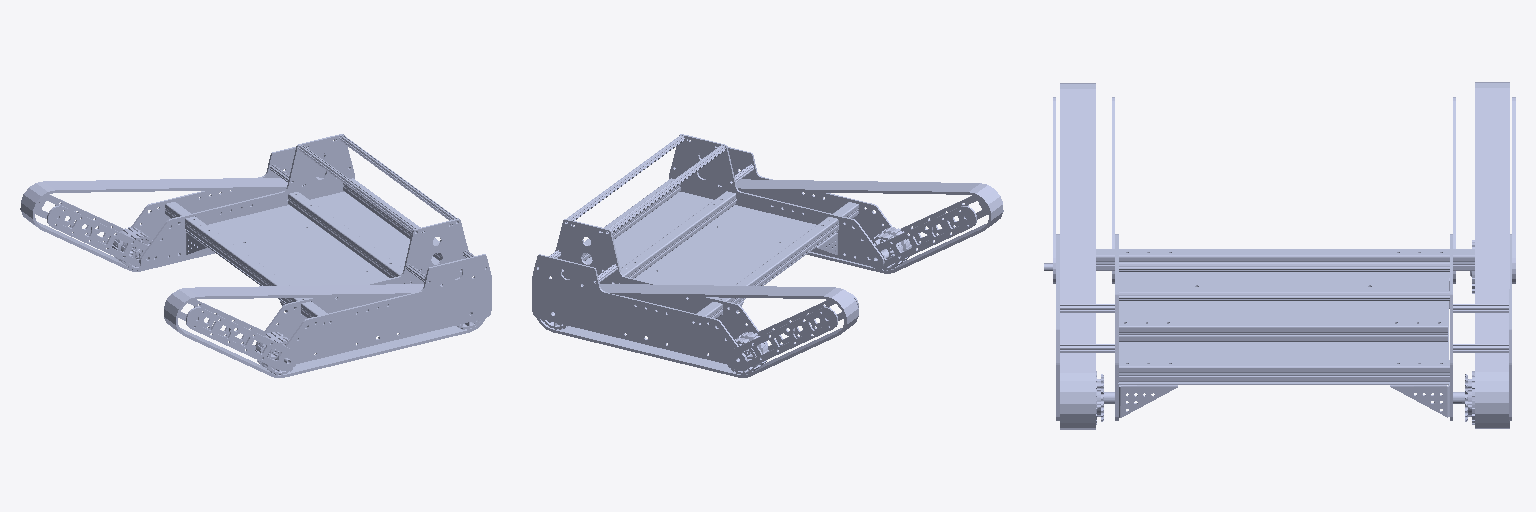
robot.urdf — rhino:
<?xml version="1.0"?>
<!-- This URDF was automatically created by SolidWorks to URDF Exporter! Originally created by [author] ([email redacted]) 
     Commit Version: 1.5.0-0-g9aa0fdb  Build Version: 1.5.7004.21443
     For more information, please see http://wiki.ros.org/sw_urdf_exporter -->

<robot xmlns:sensor="http://playerstage.sourceforge.net/gazebo/xmlschema/#sensor"
  xmlns:controller="http://playerstage.sourceforge.net/gazebo/xmlschema/#controller"
  xmlns:interface="http://playerstage.sourceforge.net/gazebo/xmlschema/#interface"
  xmlns:xacro="http://www.ros.org/wiki/xacro"
  name="rhino">
<!--   <gazebo>
    <plugin filename="libgazebo_ros_diff_drive.so" name="differential_drive_controller">
      <alwaysOn>true</alwaysOn>
      <updateRate>20</updateRate>
      <leftJoint>l_front_gear_joint</leftJoint>
      <rightJoint>r_front_gear_joint</rightJoint>
      <wheelSeparation>0.5207</wheelSeparation>
      <wheelDiameter>0.0381</wheelDiameter>
      <torque>0.1</torque>
      <commandTopic>cmd_vel</commandTopic>
      <odometryTopic>odom</odometryTopic>
      <odometryFrame>odom</odometryFrame>
      <robotBaseFrame>base_link</robotBaseFrame>
    </plugin>
  </gazebo> -->
  <link
    name="base_link">
    <inertial>
      <origin
        xyz="-0.0854539444578278 -0.248510652272491 -0.0312116526849612"
        rpy="0 0 0" />
      <mass
        value="3.56295751873982" />
      <inertia
        ixx="0.257988964378837"
        ixy="-4.92926267539531E-05"
        ixz="0.00927576508424767"
        iyy="0.169815337004094"
        iyz="-0.000325135700747767"
        izz="0.404346652256536" />
    </inertial>
    <visual>
      <origin
        xyz="0 0 0"
        rpy="0 0 0" />
      <geometry>
        <mesh
          filename="package://robot-description-rhino/meshes/base_link.STL" />
      </geometry>
      <material
        name="">
        <color
          rgba="0.792156862745098 0.819607843137255 0.933333333333333 1" />
      </material>
    </visual>
    <collision>
      <origin
        xyz="0 0 0"
        rpy="0 0 0" />
      <geometry>
        <mesh
          filename="package://robot-description-rhino/meshes/base_link.STL" />
      </geometry>
    </collision>
  </link>
  <link
    name="r_front_gear_link">
    <inertial>
      <origin
        xyz="-1.7946086172671E-08 0.000932848402039943 -1.21516630091634E-10"
        rpy="0 0 0" />
      <mass
        value="0.159751645930498" />
      <inertia
        ixx="0.000101683067389321"
        ixy="-2.67439877595214E-12"
        ixz="-4.32552434761431E-14"
        iyy="0.000126695577433162"
        iyz="7.52063087514194E-11"
        izz="0.000101675353103401" />
    </inertial>
    <visual>
      <origin
        xyz="0 0 0"
        rpy="0 0 0" />
      <geometry>
        <mesh
          filename="package://robot-description-rhino/meshes/r_front_gear_link.STL" />
      </geometry>
      <material
        name="">
        <color
          rgba="0.792156862745098 0.819607843137255 0.933333333333333 1" />
      </material>
    </visual>
    <collision>
      <origin
        xyz="0 0 0"
        rpy="0 0 0" />
      <geometry>
        <cylinder radius="0.1" length="0.075"/>
      </geometry>
    </collision>
  </link>
  <joint
    name="r_front_gear_joint"
    type="continuous">
    <origin
      xyz="-0.302841769105532 0.0553113212582894 -0.085091106884355"
      rpy="-3.14159265358979 0.248289056196051 0" />
    <parent
      link="base_link" />
    <child
      link="r_front_gear_link" />
    <axis
      xyz="0 0 1" />
    <safety_controller
      k_velocity="0" />
  </joint>
  <link
    name="l_front_gear_link">
    <inertial>
      <origin
        xyz="-1.79460862281822E-08 0.00093284840204011 -1.21516602336058E-10"
        rpy="0 0 0" />
      <mass
        value="0.159751645930498" />
      <inertia
        ixx="0.000101683067389321"
        ixy="-2.67439883249513E-12"
        ixz="-4.32553806954293E-14"
        iyy="0.000126695577433162"
        iyz="7.52063087551771E-11"
        izz="0.000101675353103401" />
    </inertial>
    <visual>
      <origin
        xyz="0 0 0"
        rpy="0 0 0" />
      <geometry>
        <mesh
          filename="package://robot-description-rhino/meshes/l_front_gear_link.STL" />
      </geometry>
      <material
        name="">
        <color
          rgba="0.792156862745098 0.819607843137255 0.933333333333333 1" />
      </material>
    </visual>
    <collision>
      <origin
        xyz="0 0 0"
        rpy="0 0 0" />
      <geometry>
        <cylinder radius="0.1" length="0.075"/>
      </geometry>
    </collision>
  </link>
  <joint
    name="l_front_gear_joint"
    type="continuous">
    <origin
      xyz="-0.302841769105532 -0.552764678741711 -0.0850911068843571"
      rpy="-3.14159265358979 0.248289056196051 0" />
    <parent
      link="base_link" />
    <child
      link="l_front_gear_link" />
    <axis
      xyz="0 0 1" />
    <safety_controller
      k_velocity="0" />
  </joint>
  <link
    name="l_rear_gear_link">
    <inertial>
      <origin
        xyz="7.57477243706894E-08 -1.08693112843561E-08 0.0292794468265919"
        rpy="0 0 0" />
      <mass
        value="0.172189485209679" />
      <inertia
        ixx="0.000122932192302857"
        ixy="-3.43751007724576E-09"
        ixz="3.82354732243698E-10"
        iyy="0.000122927948516554"
        iyz="-1.56297480680647E-10"
        izz="0.000135229835419743" />
    </inertial>
    <visual>
      <origin
        xyz="0 0 0"
        rpy="0 0 0" />
      <geometry>
        <mesh
          filename="package://robot-description-rhino/meshes/l_rear_gear_link.STL" />
      </geometry>
      <material
        name="">
        <color
          rgba="0.792156862745098 0.819607843137255 0.933333333333333 1" />
      </material>
    </visual>
    <collision>
      <origin
        xyz="0 0 0"
        rpy="0 0 0" />
      <geometry>
        <cylinder radius="0.1" length="0.075"/>
      </geometry>
    </collision>
  </link>
  <joint
    name="l_rear_gear_joint"
    type="continuous">
    <origin
      xyz="0.154358230894468 -0.51955417874171 -0.0850911068843558"
      rpy="1.5707 0 0" />
    <parent
      link="base_link" />
    <child
      link="l_rear_gear_link" />
    <axis
      xyz="0 0 1" />
    <safety_controller
      k_velocity="0" />
  </joint>
  <link
    name="r_rear_gear_link">
    <inertial>
      <origin
        xyz="-4.28818209829984E-08 -7.9362040883435E-08 -0.0333434215720098"
        rpy="0 0 0" />
      <mass
        value="0.172189485469411" />
      <inertia
        ixx="0.000122932112918135"
        ixy="-3.23459466121525E-09"
        ixz="8.39145638229489E-11"
        iyy="0.000122928572079766"
        iyz="3.39198135872643E-10"
        izz="0.00013522983543829" />
    </inertial>
    <visual>
      <origin
        xyz="0 0 0"
        rpy="0 0 0" />
      <geometry>
        <mesh
          filename="package://robot-description-rhino/meshes/r_rear_gear_link.STL" />
      </geometry>
      <material
        name="">
        <color
          rgba="0.792156862745098 0.819607843137255 0.933333333333333 1" />
      </material>
    </visual>
    <collision>
      <origin
        xyz="0 0 0"
        rpy="0 0 0" />
      <geometry>
        <cylinder radius="0.1" length="0.075"/>
      </geometry>
    </collision>
  </link>
  <joint
    name="r_rear_gear_joint"
    type="continuous">
    <origin
      xyz="0.154358230894465 0.0180368212582895 -0.0850911068843606"
      rpy="1.5707 0 0" />
    <parent
      link="base_link" />
    <child
      link="r_rear_gear_link" />
    <axis
      xyz="0 0 1" />
    <safety_controller
      k_velocity="0" />
  </joint>

  <gazebo>
    <plugin name="skid_steer_drive_controller" filename="libgazebo_ros_skid_steer_drive.so">
      <updateRate>100.0</updateRate>
      <leftFrontJoint>l_front_gear_joint</leftFrontJoint>
      <rightFrontJoint>r_front_gear_joint</rightFrontJoint>
      <leftRearJoint>l_rear_gear_joint</leftRearJoint>
      <rightRearJoint>r_rear_gear_joint</rightRearJoint>
      <wheelSeparation>0.5207</wheelSeparation>
      <wheelDiameter>0.0762</wheelDiameter>
      <robotBaseFrame>base_link</robotBaseFrame>
      <torque>200</torque>
      <commandTopic>cmd_vel</commandTopic>
      <odometryTopic>odom</odometryTopic>
      <odometryFrame>odom</odometryFrame>
      <broadcastTF>true</broadcastTF>
    </plugin>
  </gazebo>

</robot>

--- Render facts (derived) ---
3 views of the same robot in one strip: view 1: azimuth 30°, elevation 25°; view 2: azimuth 150°, elevation 25°; view 3: azimuth 270°, elevation 25° (orthographic).
Model rhino with 5 links and 4 joints (4 continuous), rooted at base_link, posed every joint at zero.
Links seen in each view (by area): view 1: base_link, r_front_gear_link, l_front_gear_link; view 2: base_link, l_front_gear_link, r_front_gear_link; view 3: base_link, r_rear_gear_link.
Link boxes in pixels (bbox=[...]): base_link: bbox=[20, 134, 491, 377]; r_front_gear_link: bbox=[112, 227, 152, 270]; l_front_gear_link: bbox=[255, 332, 295, 374]; base_link: bbox=[532, 134, 1003, 377]; l_front_gear_link: bbox=[871, 227, 911, 270]; r_front_gear_link: bbox=[728, 332, 768, 374]; base_link: bbox=[1053, 82, 1515, 429]; r_rear_gear_link: bbox=[1453, 371, 1474, 424].
Size in the robot's own frame: 0.7726 by 0.6954 by 0.242 metres.
Meshes: 5 distinct files referenced, 5 mesh visuals loaded (5 binary STL).